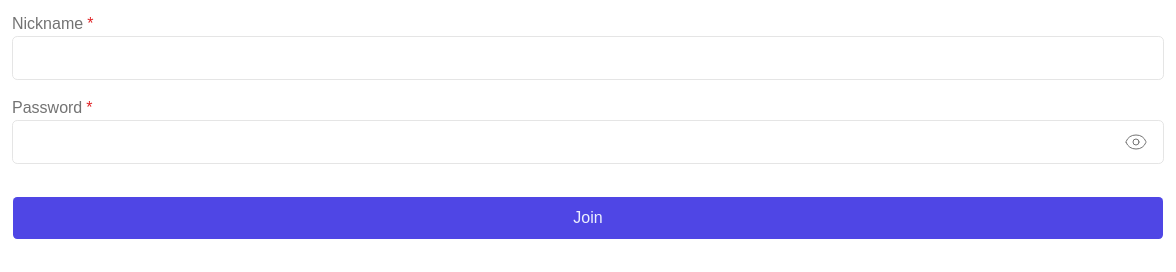
Test: AcceptInviteForm › shows an empty nickname field and requires it
This screenshot has width=1176, height=272.
Expected: the field labelled "Nickname" is empty, [12,36,1164,80]
Type "Password123!" into the password field labelled "Password".
click(588, 142); type("Password123!")  # box [12,120,1164,164]
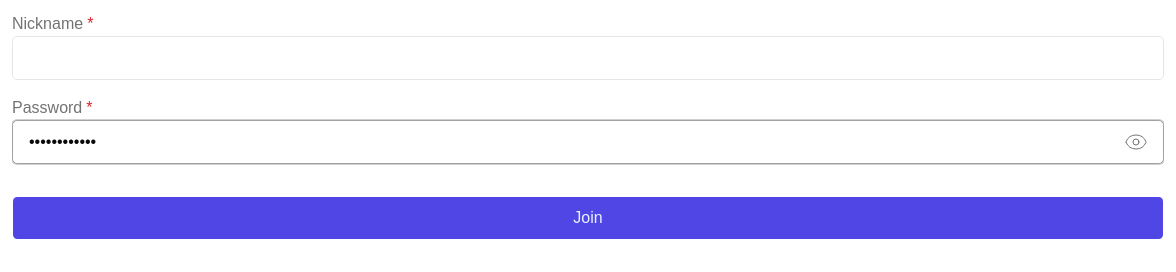
Click the button "Join".
click(588, 218)  # box [12,196,1164,240]
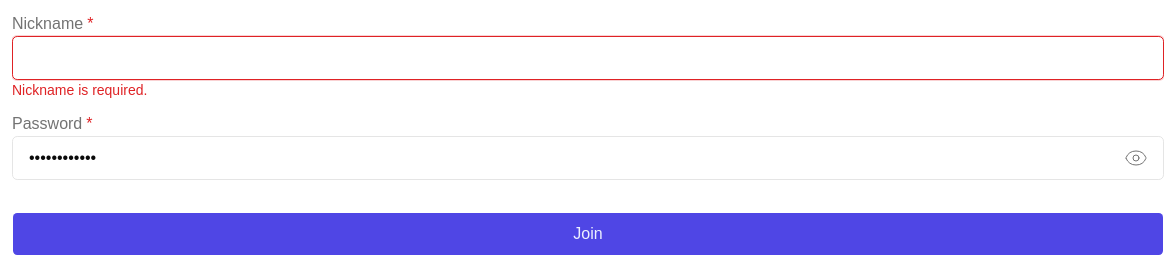
Expected: the text "Nickname is required." is shown, [12,80,147,100]
